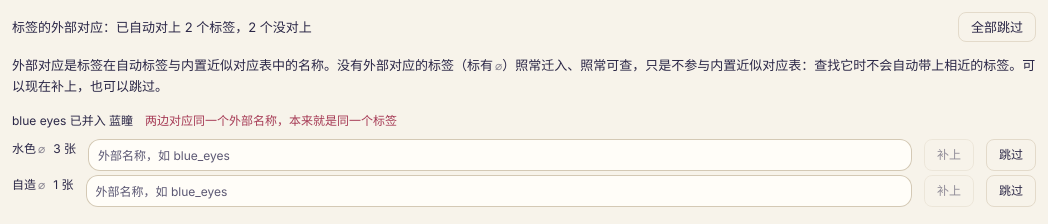
Test: 迁入向导：标签的外部对应 › 画师给一个标签补上外部对应，它从列表中移除
The image size is (1048, 224).
In the dropdown named "水色 的外部对应": point(500, 155) x1=98 y1=139 x2=902 y2=171, type "Aqua Eyes"
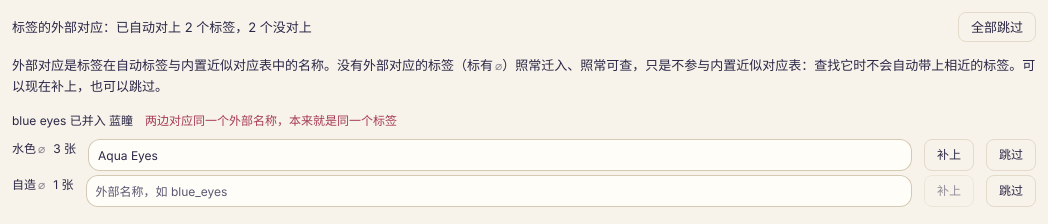
Click the button with aria-label "补上 水色 的外部对应": point(949, 155) x1=924 y1=139 x2=974 y2=171
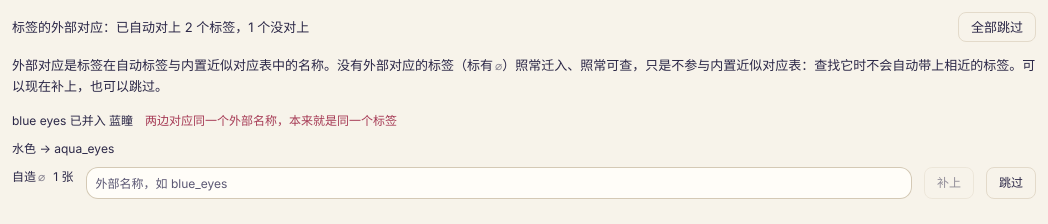
Expected: the text "水色 → aqua_eyes" is shown, x1=12 y1=139 x2=114 y2=159
